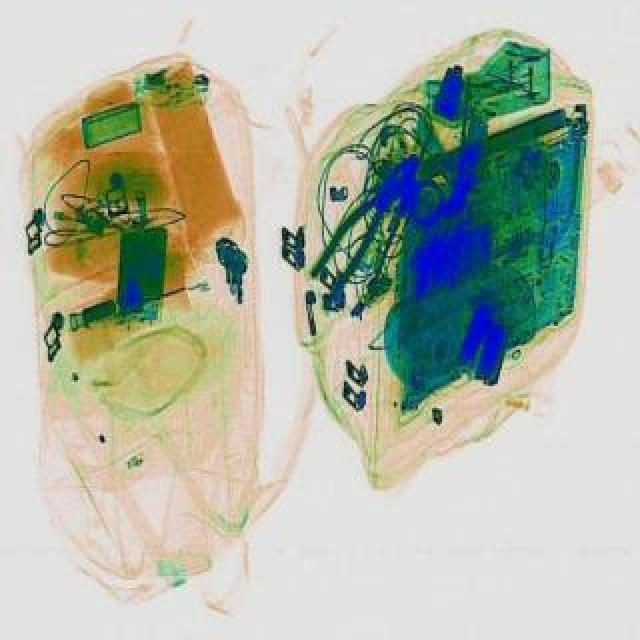wrench: (304, 148, 430, 310)
